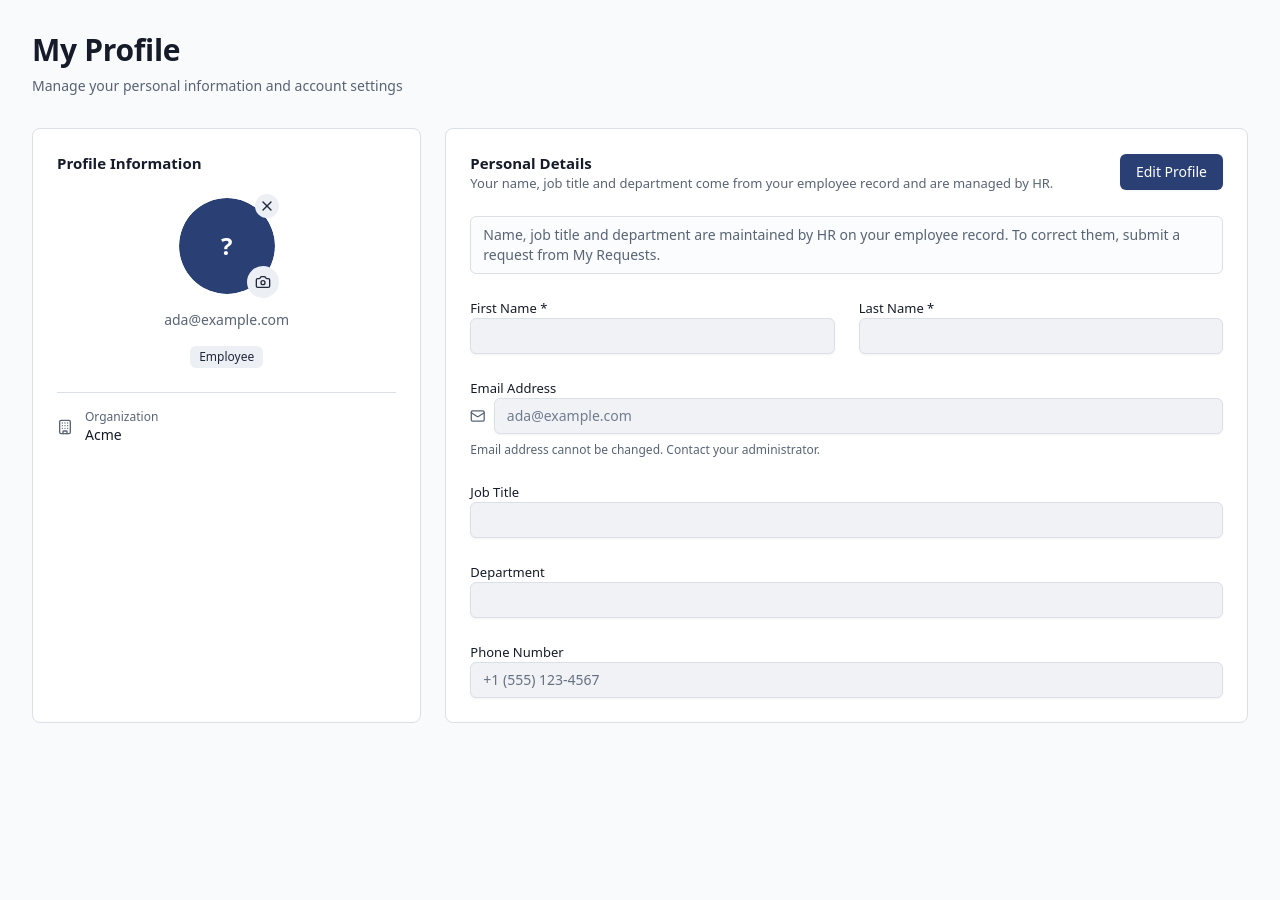
it: Profile page — profile picture › removes the picture through the self-service mutation once confirmed, then closes
This screenshot has width=1280, height=900.
Click the button with test id "button-remove-photo". click: [267, 206]
box: [255,194,279,218]
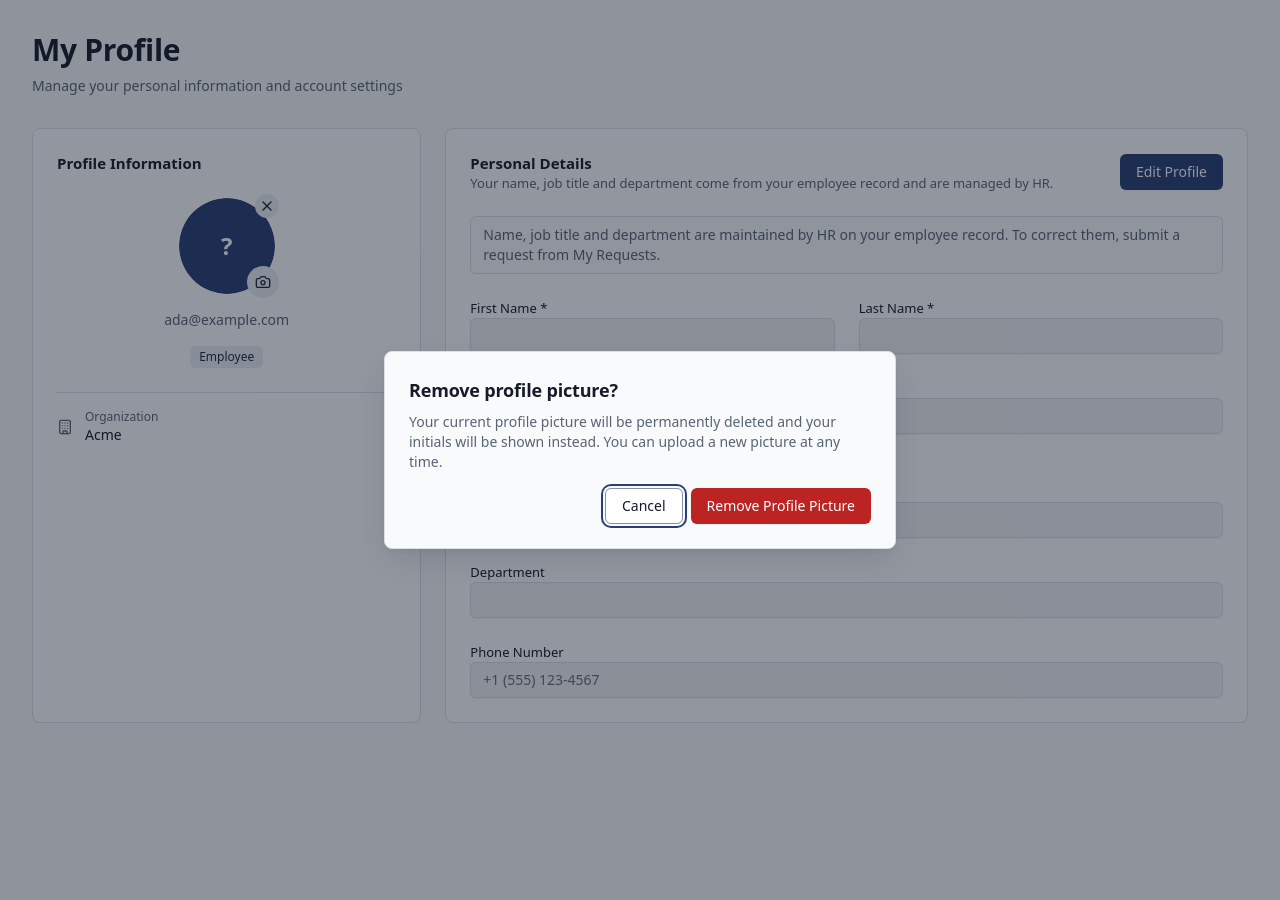
Click the button with test id "dialog-remove-photo-confirm". click: [781, 506]
box: [690,488,871,524]
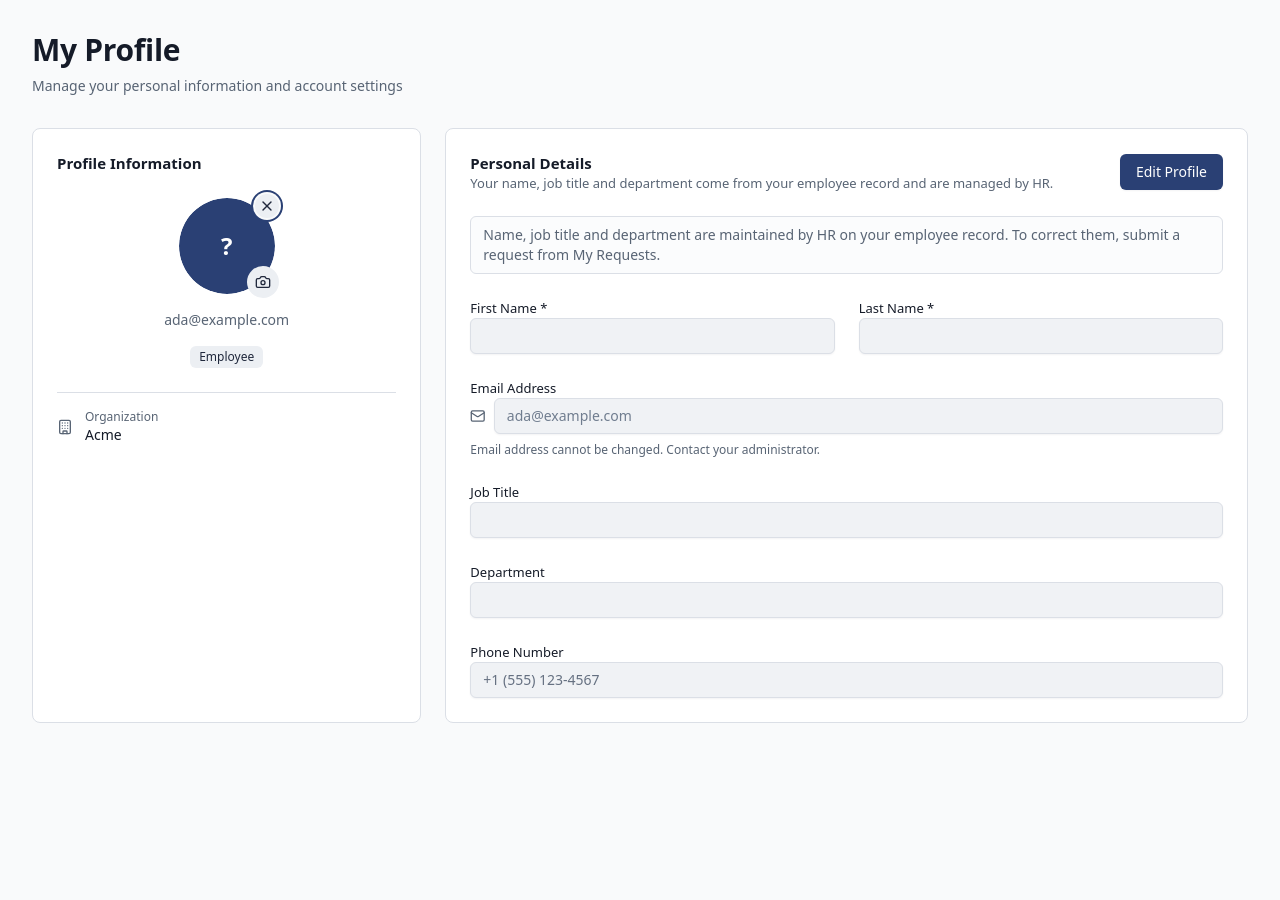
Check: the dialog with test id "dialog-remove-photo" is gone
